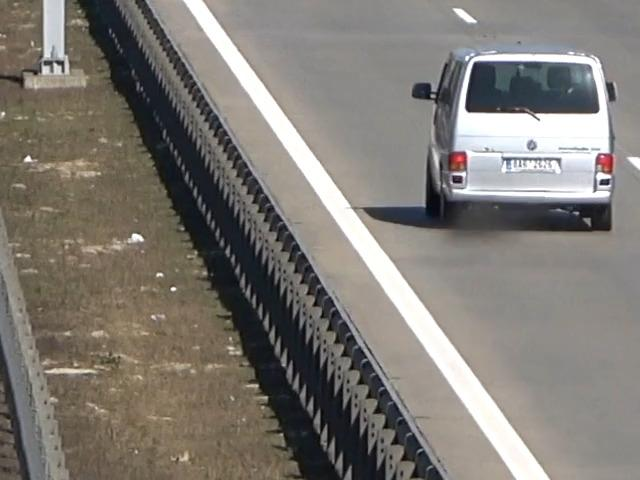car: (414, 41, 632, 241)
